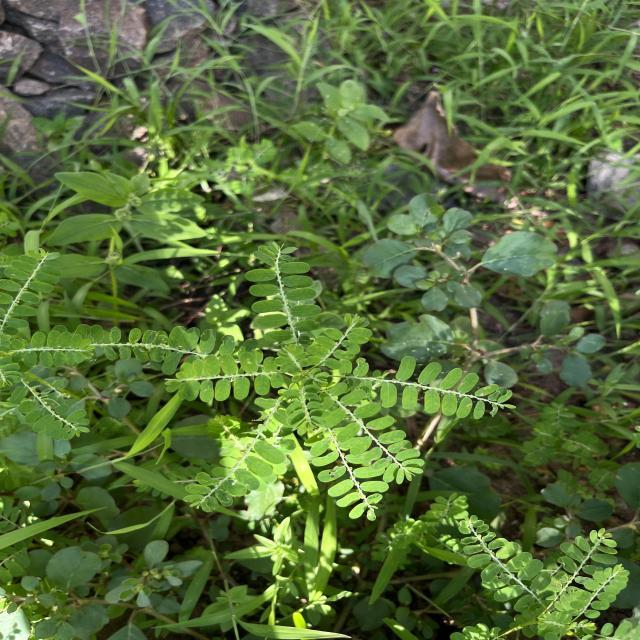Phyllanthus niruri: (314, 381, 426, 485), (182, 418, 289, 513), (374, 355, 519, 421), (244, 239, 322, 346), (456, 513, 549, 602), (162, 352, 288, 404), (306, 312, 374, 372), (571, 562, 631, 620)
